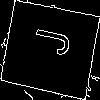J: (25, 24, 71, 58)
